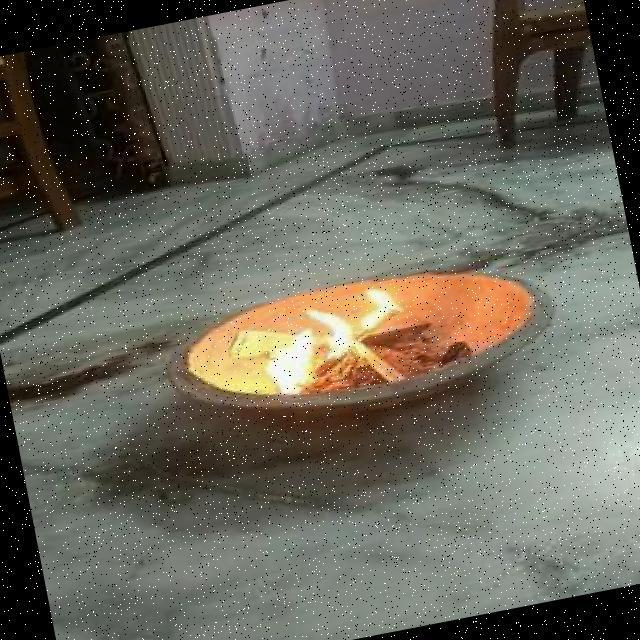Fire: (222, 275, 419, 415)
